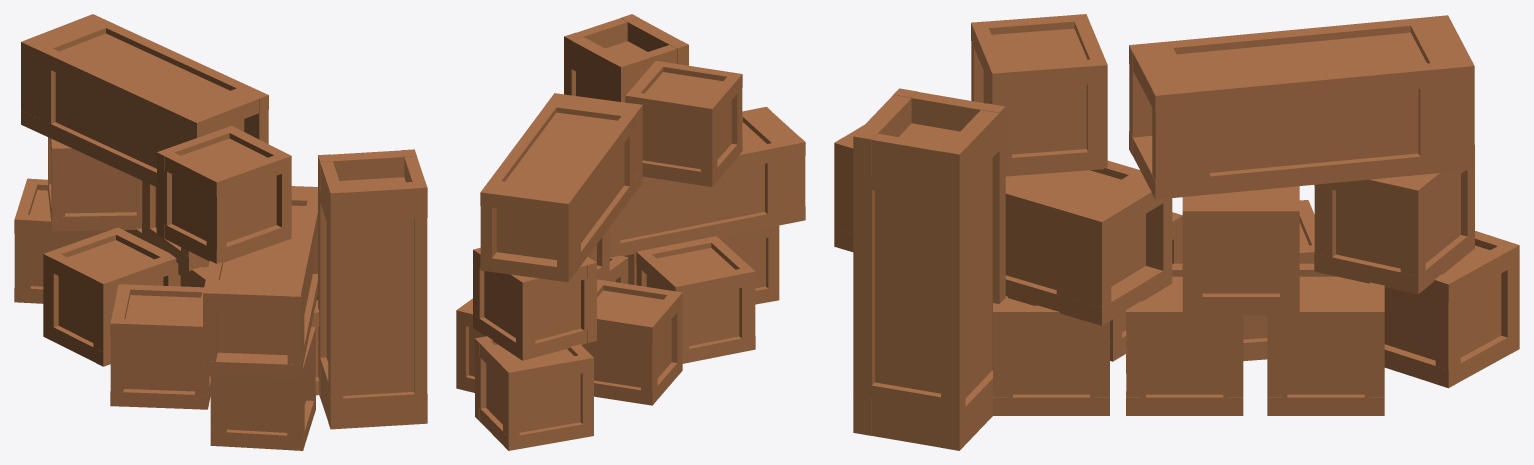
The model's file is debis4.gltf.
The picture shows the model from 3 angles, left to right: view 1: azimuth 30°, elevation 25°; view 2: azimuth 150°, elevation 25°; view 3: azimuth 270°, elevation 25°; orthographic projection. The views are drawn at different scales.
Visible parts, largest first — view 1: Crate (×12); view 2: Crate (×12); view 3: Crate (×12).
Boxes of the visible parts, bbox=[...] form: Crate (×12): bbox=[14, 14, 427, 450]; Crate (×12): bbox=[456, 14, 805, 450]; Crate (×12): bbox=[834, 14, 1519, 450].
Size of the model in its own units: 0.5689 by 0.5358 by 1.06.
1 material, 1 textured.
